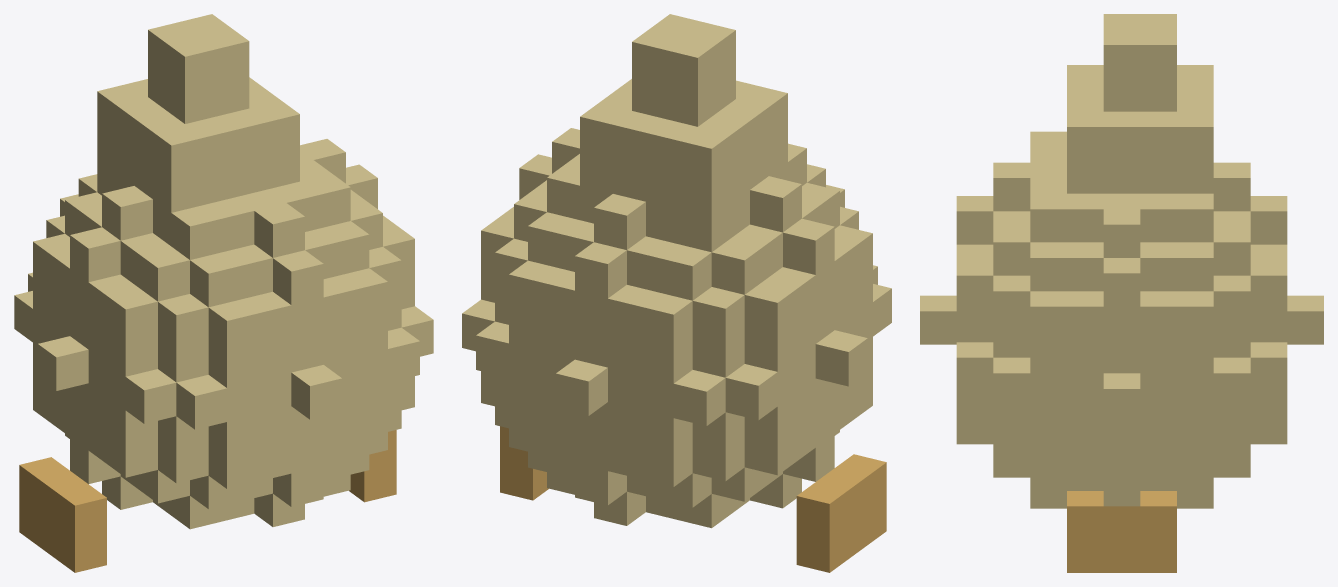
Rendered from core.glb.
The picture shows the model from 3 angles, left to right: view 1: azimuth 30°, elevation 25°; view 2: azimuth 150°, elevation 25°; view 3: azimuth 270°, elevation 25°; orthographic projection. The views are drawn at different scales.
Bounding box in the file's own units: 11 × 14 × 11.
